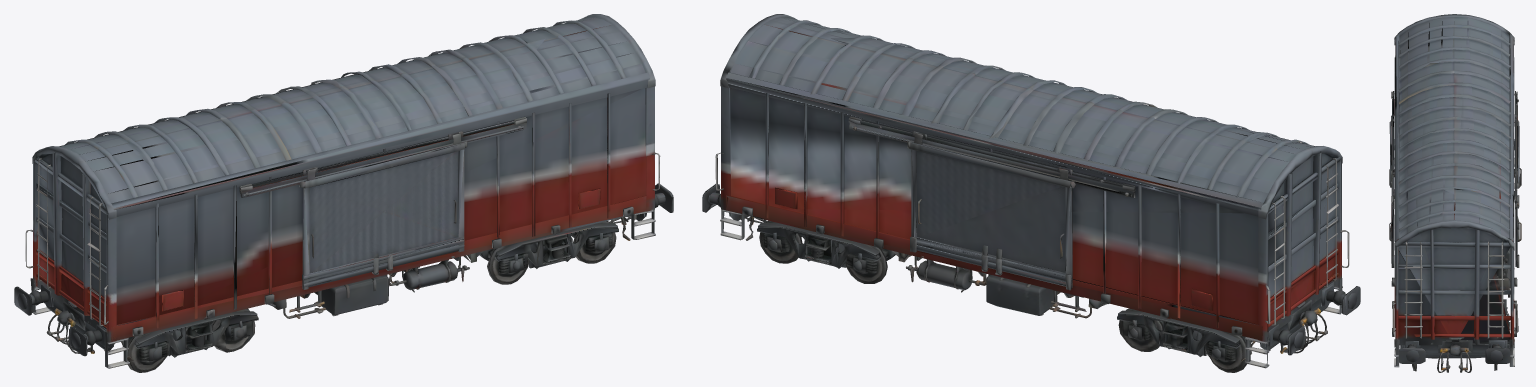
The model's file is wagon_cargo.glb.
The picture shows the model from 3 angles, left to right: view 1: azimuth 30°, elevation 25°; view 2: azimuth 150°, elevation 25°; view 3: azimuth 270°, elevation 25°; orthographic projection. The views are drawn at different scales.
Size of the model in its own units: 0.9547 by 0.3286 by 0.2373.
1 material, 1 textured.
